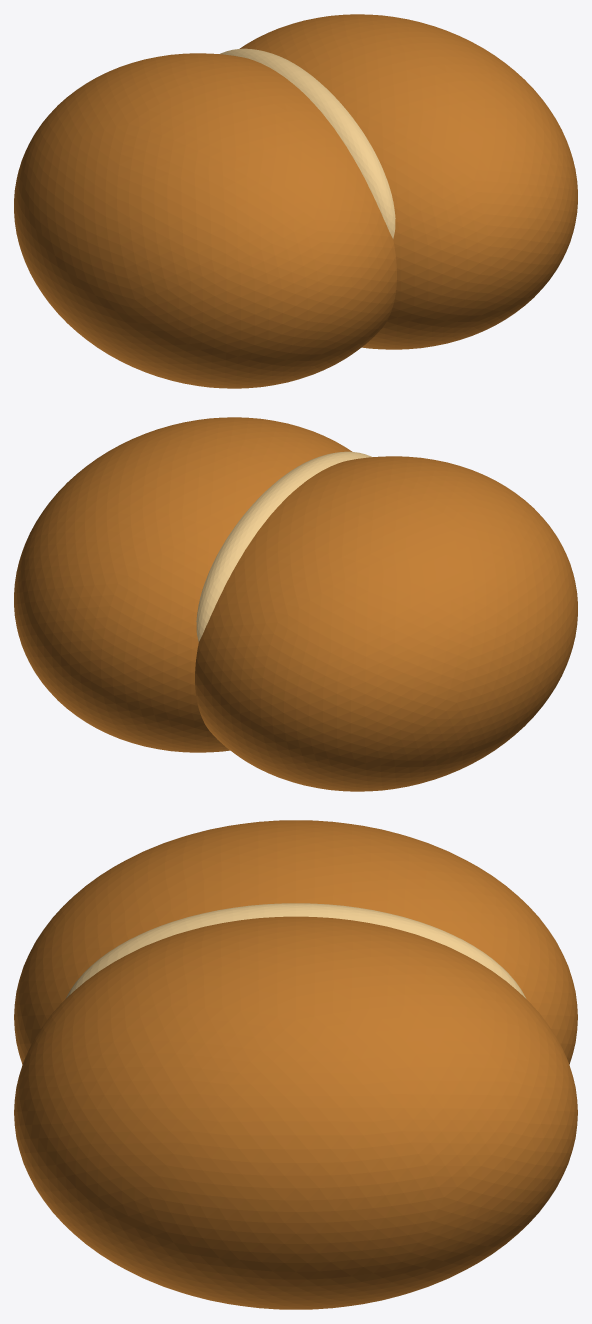
File: pan_frances.glb
3 views of the same model, one above another, from view 1: azimuth 30°, elevation 25°; view 2: azimuth 150°, elevation 25°; view 3: azimuth 270°, elevation 25° (orthographic). The views are drawn at different scales.
Parts seen in each view (by area): view 1: pan_frances_0, pan_frances_1, pan_frances_2; view 2: pan_frances_0, pan_frances_1, pan_frances_2; view 3: pan_frances_1, pan_frances_0, pan_frances_2.
Boxes of the visible parts, left/top/right/bottom form: pan_frances_0: left=14, top=53, right=396, bottom=388; pan_frances_1: left=239, top=14, right=577, bottom=349; pan_frances_2: left=219, top=48, right=395, bottom=238; pan_frances_0: left=195, top=456, right=577, bottom=791; pan_frances_1: left=14, top=417, right=352, bottom=752; pan_frances_2: left=196, top=451, right=372, bottom=641; pan_frances_1: left=14, top=916, right=577, bottom=1309; pan_frances_0: left=14, top=820, right=577, bottom=1064; pan_frances_2: left=65, top=903, right=526, bottom=998.
Size of the model in its own units: 0.111 by 0.06 by 0.09.
